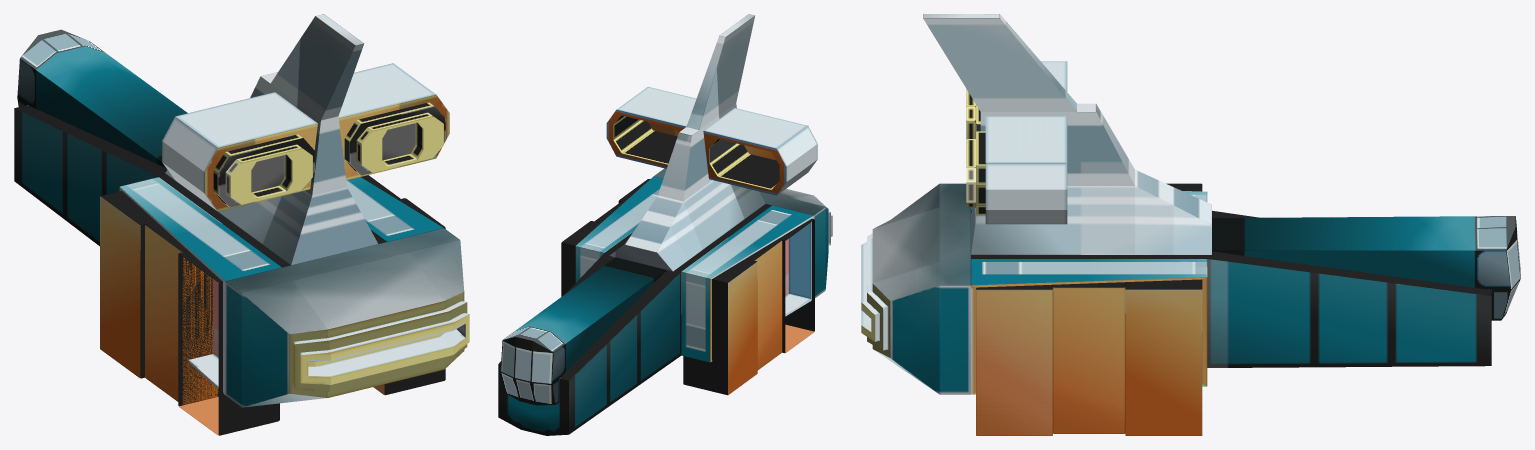
File: Cargo.fbx
The picture shows the model from 3 angles, left to right: view 1: azimuth 30°, elevation 25°; view 2: azimuth 150°, elevation 25°; view 3: azimuth 270°, elevation 25°; orthographic projection. The views are drawn at different scales.
Visible parts, largest first — view 1: cuboid_7, cuboid_8, cuboid_9, cuboid_1, cuboid, cuboid_13, cuboid_5, cuboid_4, cuboid_6, cuboid_2, cuboid_3, cuboid_10; view 2: cuboid_8, cuboid, cuboid_1, cuboid_2, cuboid_9, cuboid_4, cuboid_13, cuboid_5, cuboid_3, cuboid_7, cuboid_6, cuboid_12; view 3: cuboid, cuboid_8, cuboid_7, cuboid_1, cuboid_12, cuboid_10, cuboid_11, cuboid_13, cuboid_3, cuboid_9.
Part boxes in pixels (x1,y1,x2,y2): cuboid_7: (225, 228, 469, 407); cuboid_8: (165, 14, 377, 265); cuboid_9: (162, 92, 317, 211); cuboid_1: (17, 29, 187, 167); cuboid: (14, 105, 386, 267); cuboid_13: (338, 63, 449, 180); cuboid_5: (145, 221, 218, 404); cuboid_4: (100, 191, 155, 378); cuboid_6: (178, 251, 279, 435); cuboid_2: (119, 177, 281, 395); cuboid_3: (346, 177, 443, 241); cuboid_10: (373, 198, 445, 395); cuboid_8: (609, 14, 765, 271); cuboid: (498, 204, 771, 435); cuboid_1: (500, 257, 666, 405); cuboid_2: (681, 205, 813, 362); cuboid_9: (703, 108, 817, 195); cuboid_4: (683, 258, 757, 395); cuboid_13: (606, 86, 696, 168); cuboid_5: (746, 239, 782, 370); cuboid_3: (575, 176, 663, 282); cuboid_7: (653, 168, 832, 297); cuboid_6: (778, 218, 814, 353); cuboid_12: (561, 221, 600, 296); cuboid: (971, 210, 1491, 367); cuboid_8: (923, 14, 1211, 254); cuboid_7: (861, 183, 970, 394); cuboid_1: (1212, 216, 1520, 320); cuboid_12: (1125, 279, 1202, 435); cuboid_10: (976, 284, 1052, 435); cuboid_11: (1053, 282, 1125, 433); cuboid_13: (966, 116, 1067, 224); cuboid_3: (971, 259, 1207, 394); cuboid_9: (966, 61, 1067, 139).
Size of the model in its own units: 350 by 525 by 855.
3 materials, 3 textured.
